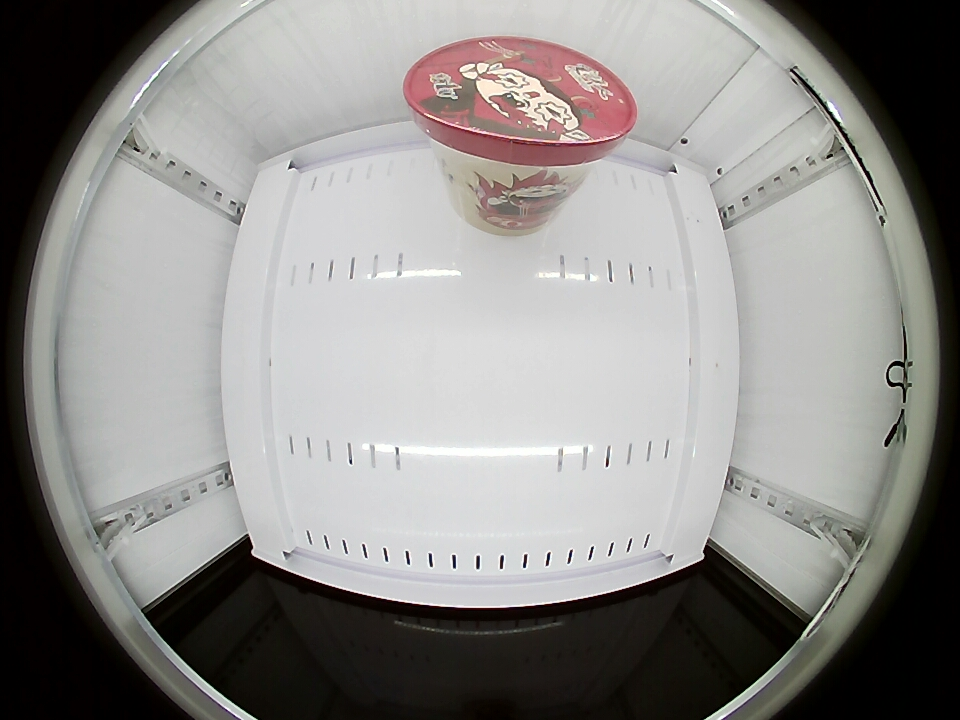suanlafen: (403, 37, 638, 177)
